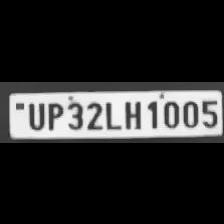0: (160, 96, 180, 128), (179, 96, 199, 128)
1: (142, 97, 160, 128)
2: (83, 98, 103, 130)
3: (63, 98, 83, 130)
5: (198, 96, 218, 128)
H: (121, 97, 143, 129)
L: (102, 97, 120, 129)
P: (43, 99, 63, 130)
U: (24, 99, 46, 129)
